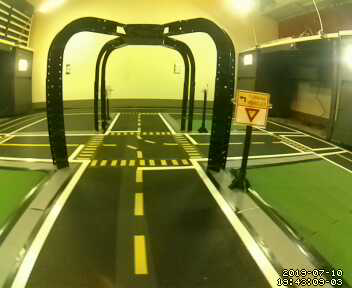Turn Yield: (233, 88, 270, 131)
